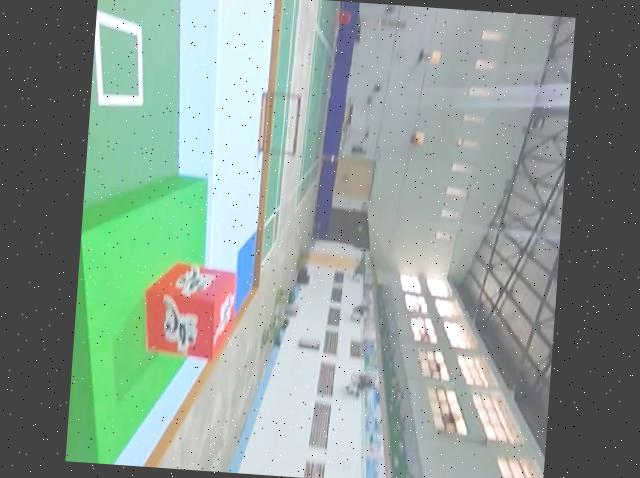R1: (139, 260, 240, 362)
